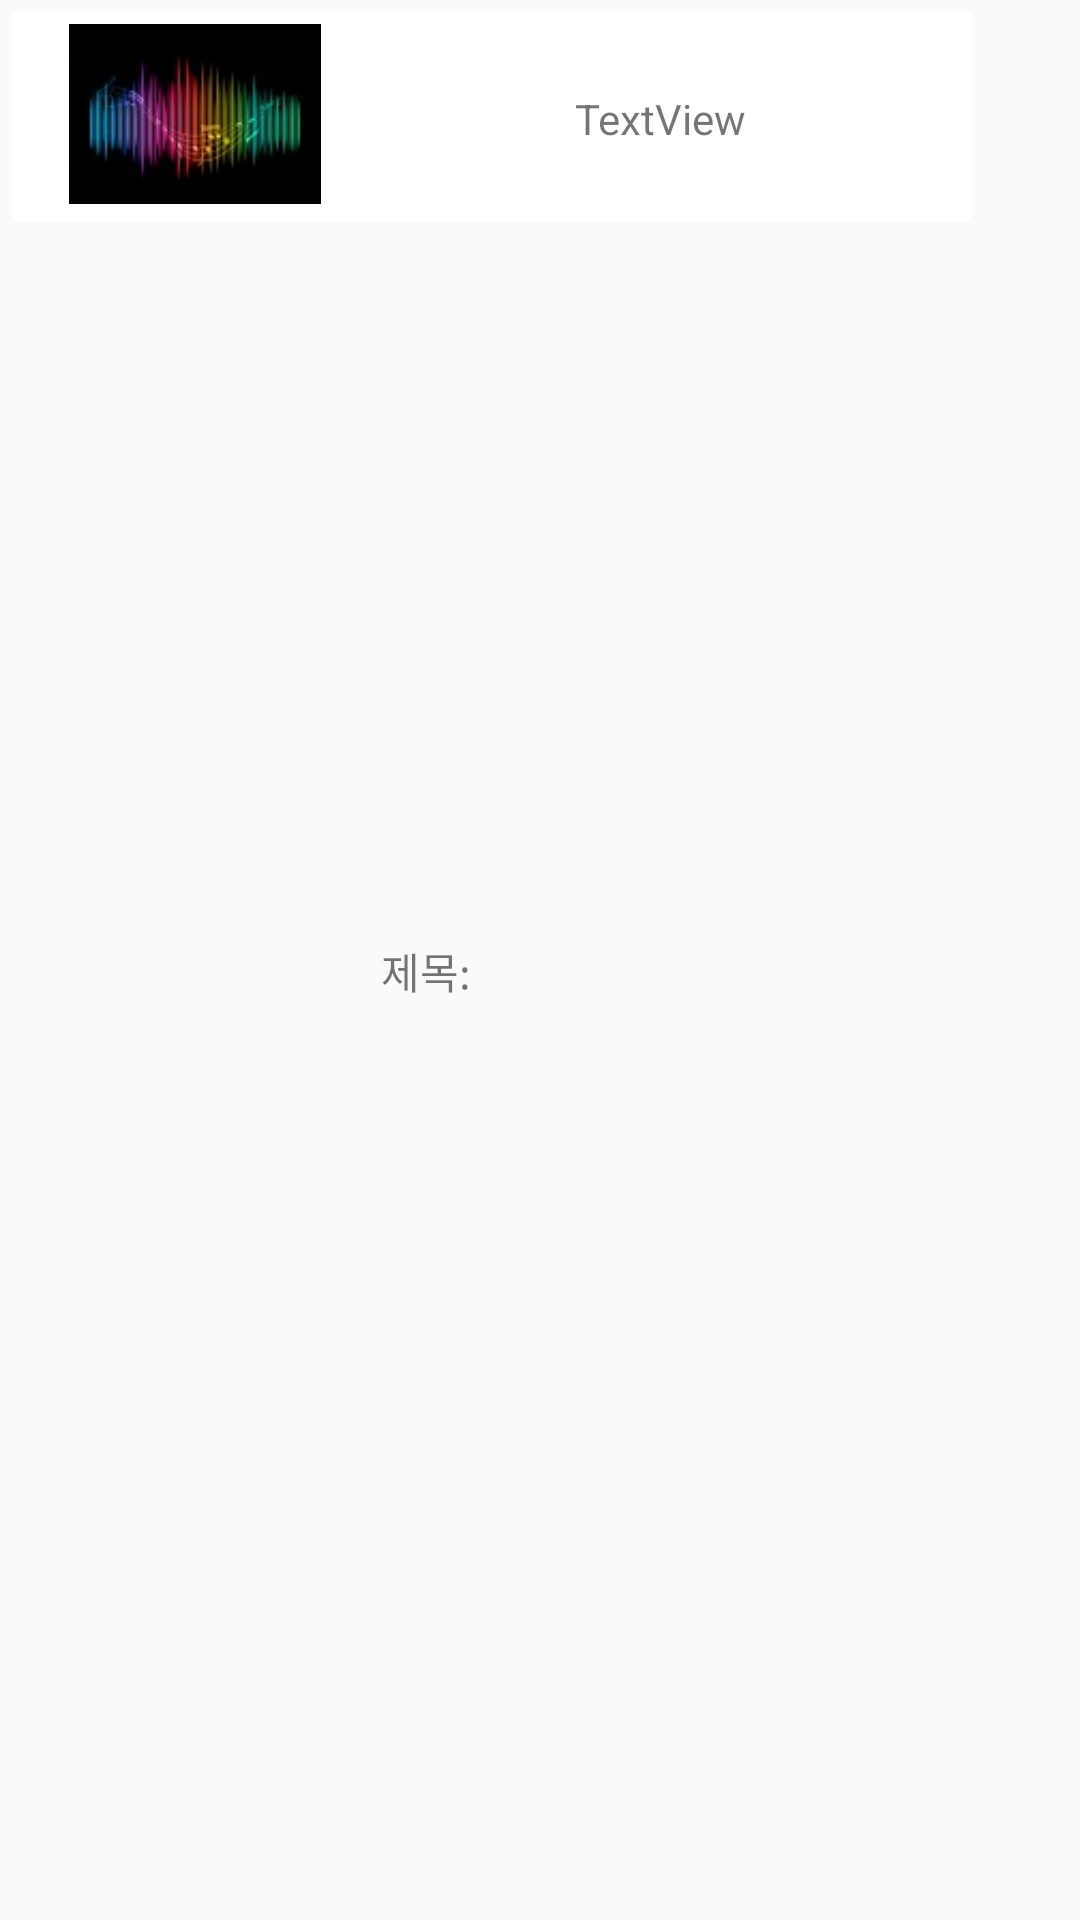

Point at icon controls on the screen. Image size 1080px x 1920px, points as [x,y].
music: [195,114]
